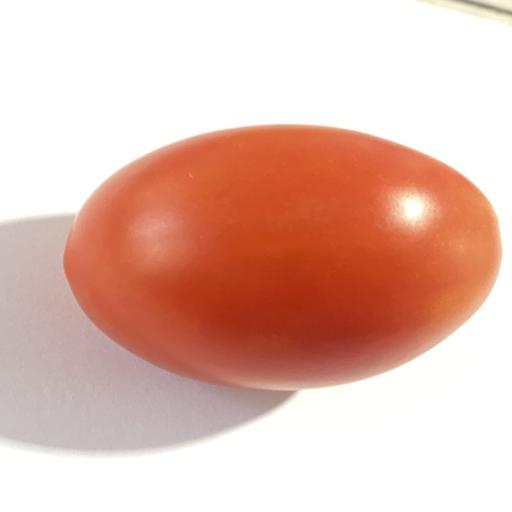ripe: (64, 125, 501, 390)
